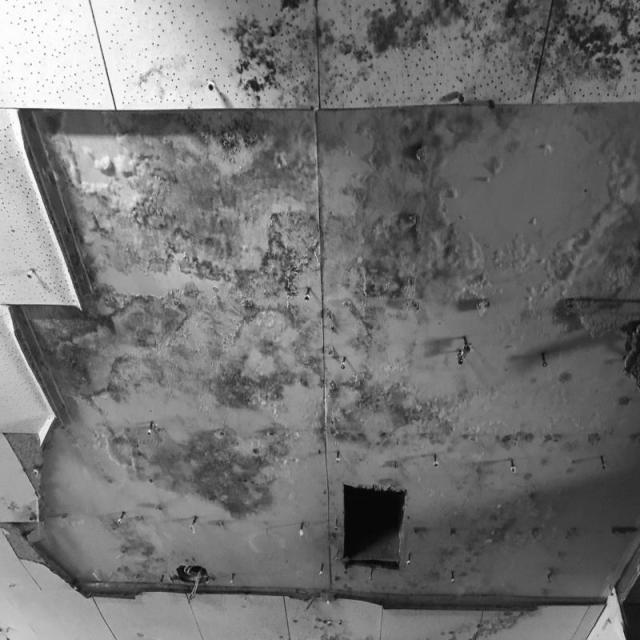stain marks: (21, 0, 640, 637)
